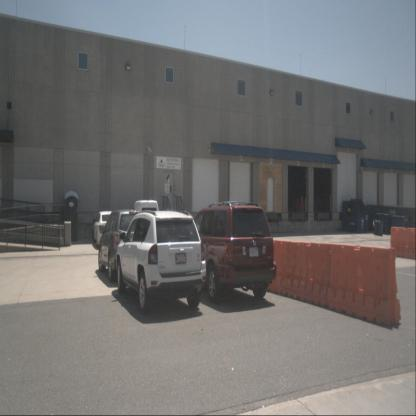barrier: (326, 243, 401, 328), (288, 240, 334, 309), (249, 240, 288, 296), (390, 226, 416, 261)
cone: (300, 195, 304, 213)
